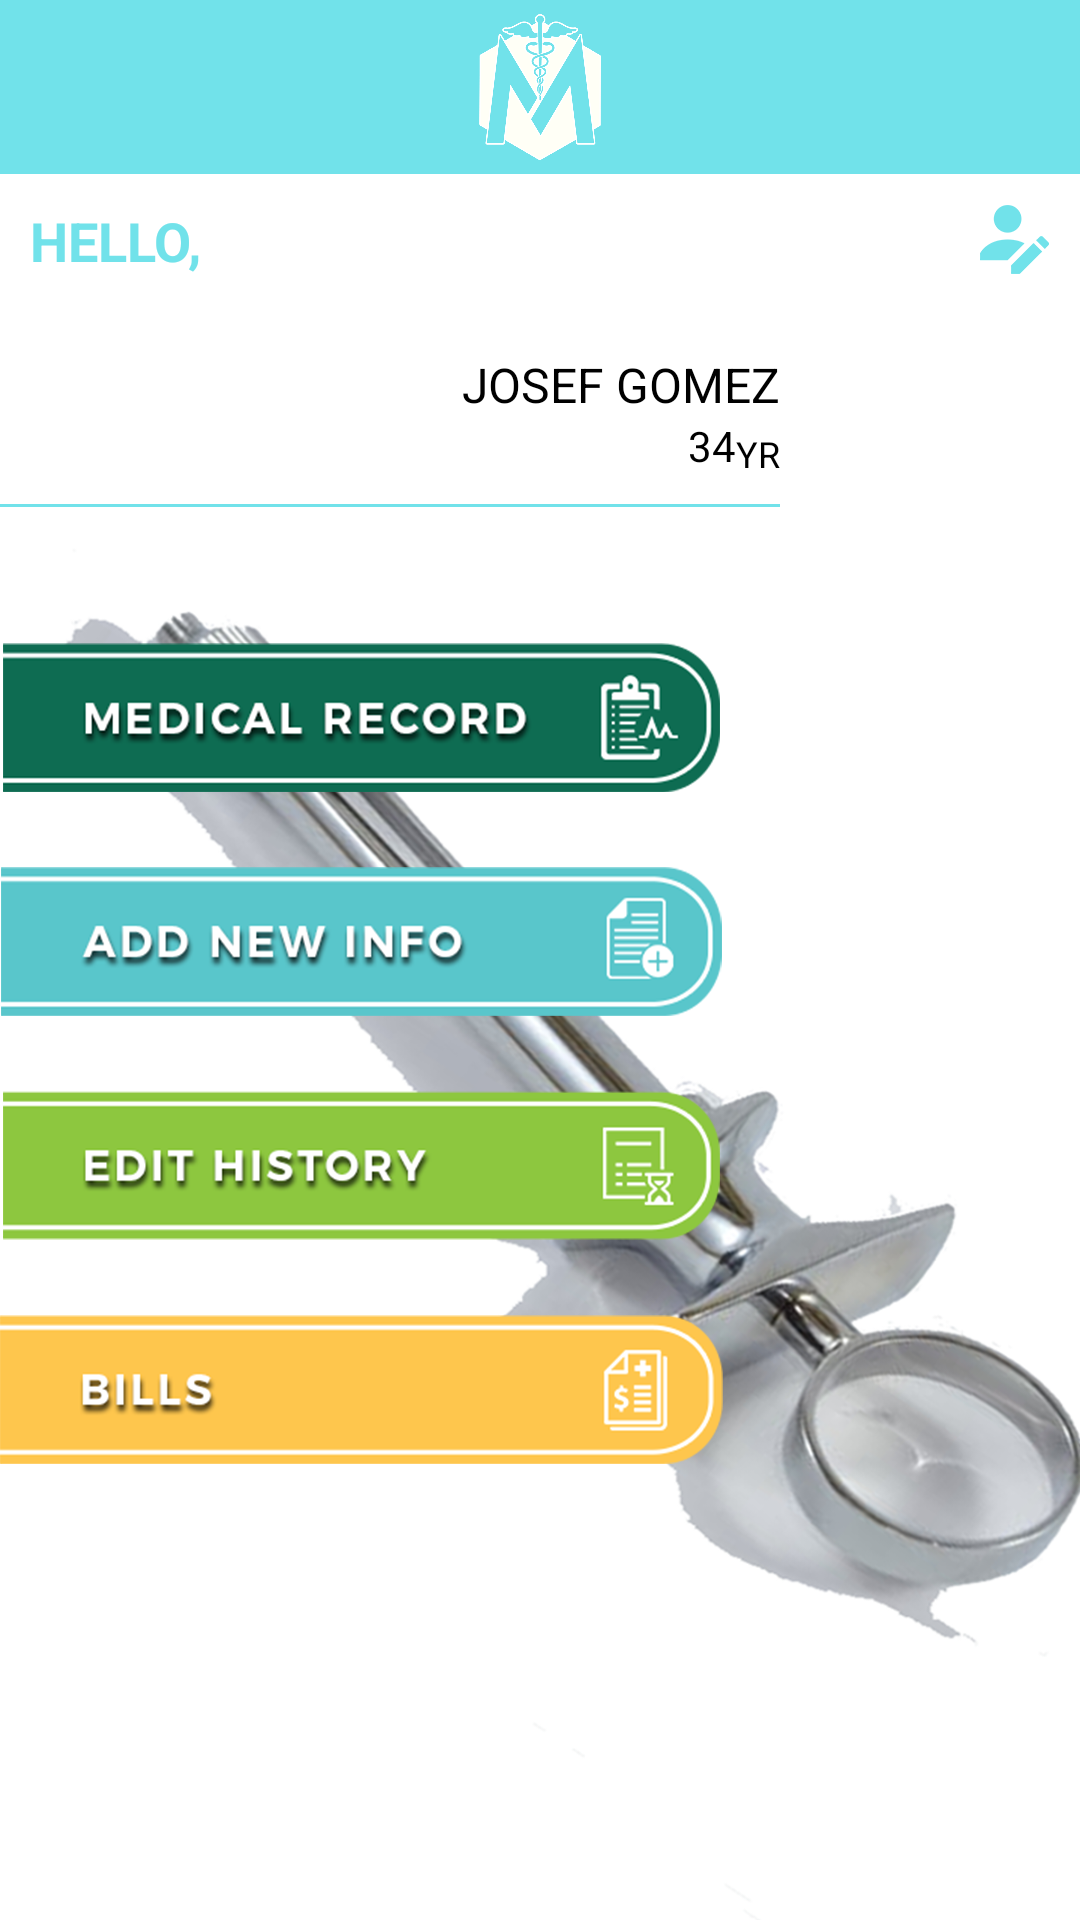

Screen size 1080×1920. Icon name, then its center in pixels as (x=x, y=y):
editprofile: (x=1014, y=239)
